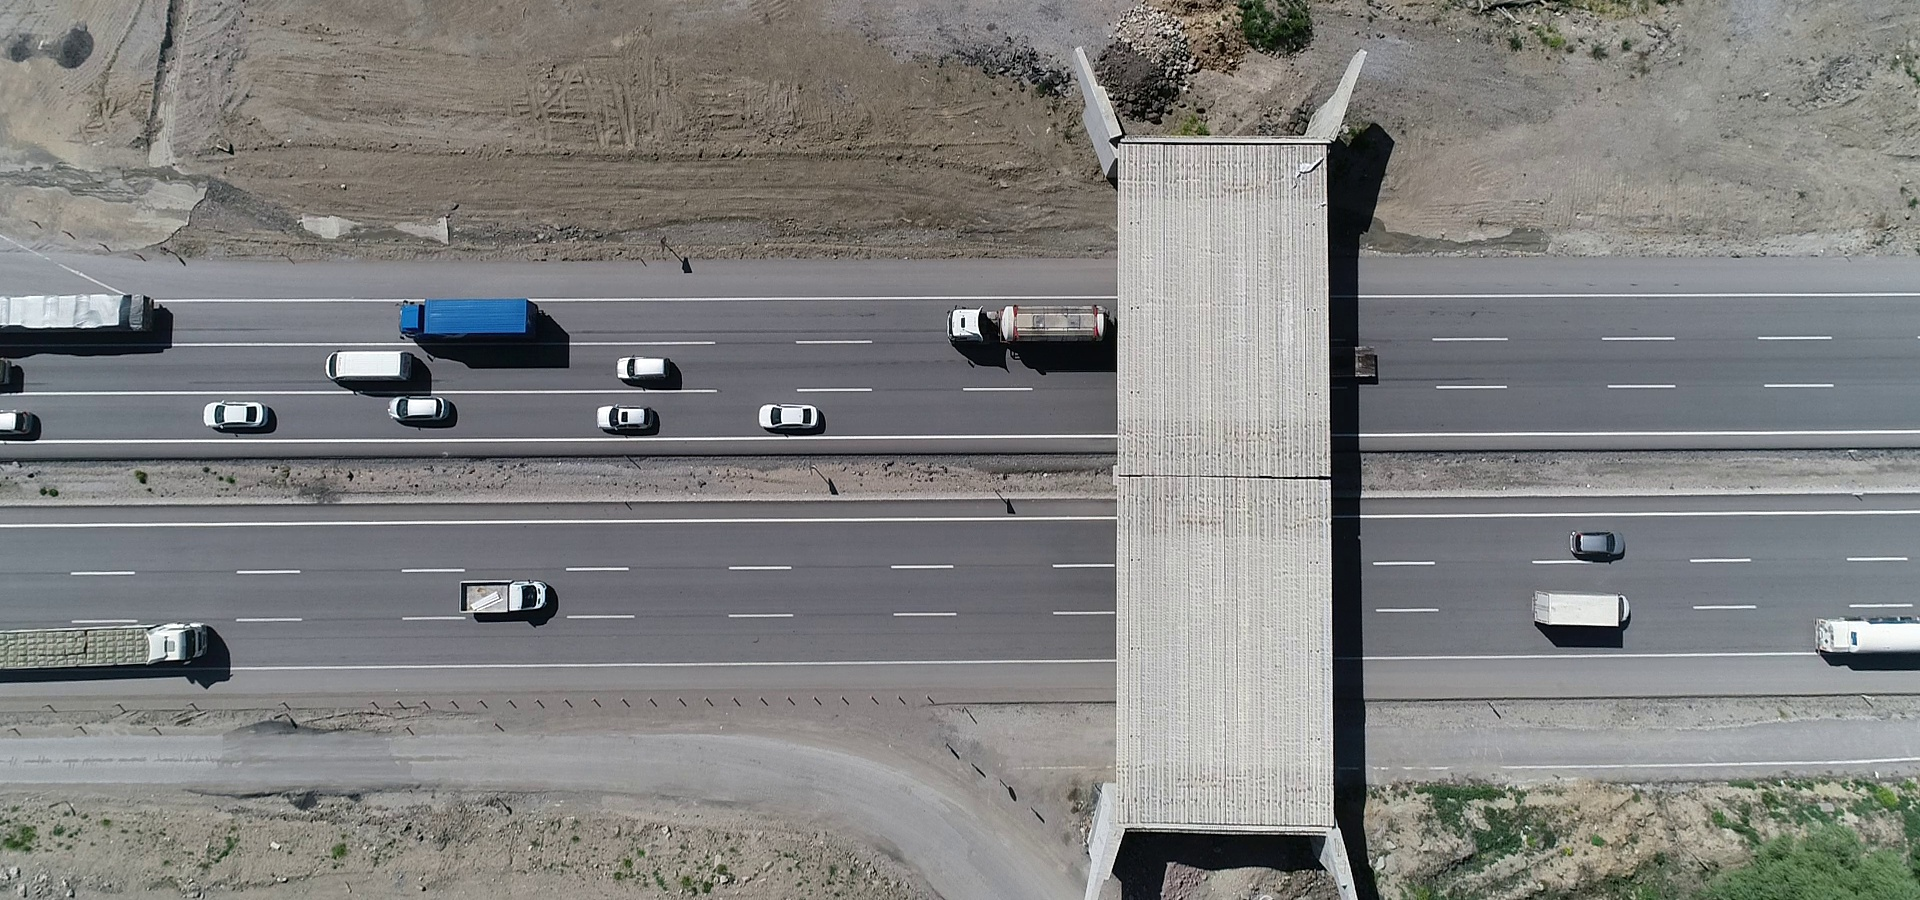araba: (453, 571, 560, 620), (324, 342, 418, 381), (201, 392, 280, 435), (382, 388, 456, 429), (613, 347, 680, 389), (758, 398, 836, 430), (591, 399, 664, 431), (1560, 528, 1626, 562), (2, 400, 36, 444)
kamyon: (1, 612, 233, 676), (1, 285, 180, 343), (947, 301, 1114, 353), (391, 294, 550, 337), (1528, 585, 1648, 642), (1812, 615, 1920, 660)
